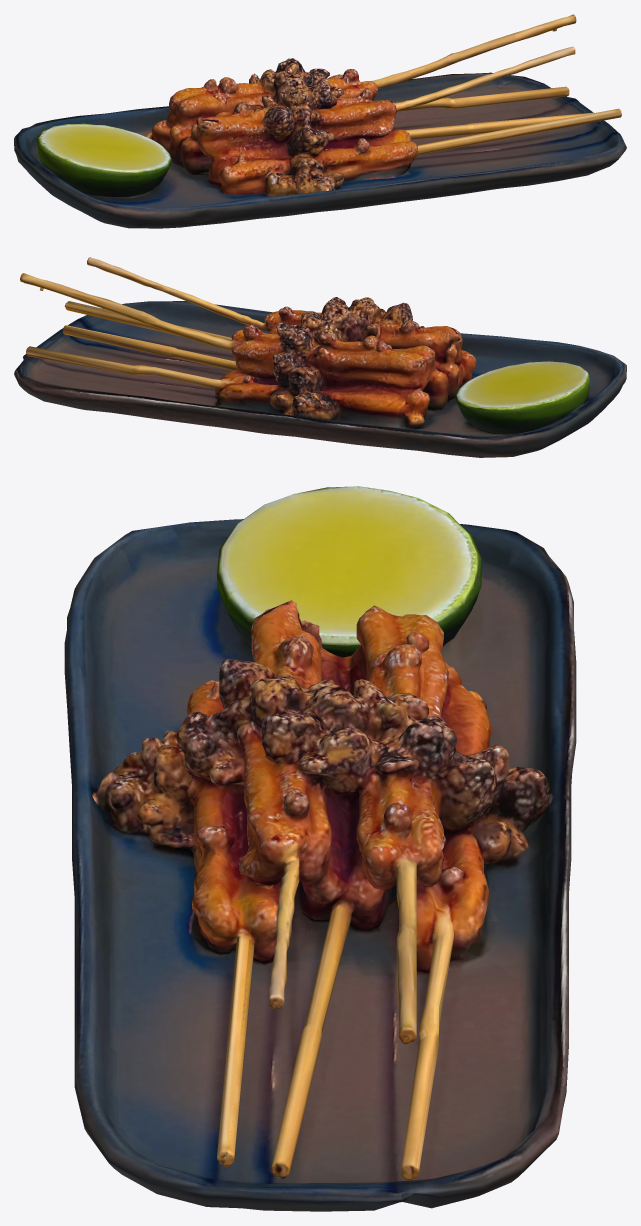
File: chickpea-satay.glb
3 renders of one model, top to bottom at view 1: azimuth 30°, elevation 25°; view 2: azimuth 150°, elevation 25°; view 3: azimuth 270°, elevation 25°, orthographic. The views are drawn at different scales.
Parts seen in each view (by area): view 1: tripo_node_9c38dfc2; view 2: tripo_node_9c38dfc2; view 3: tripo_node_9c38dfc2.
Boxes of the visible parts, x1,y1,x2,y2 form: tripo_node_9c38dfc2: (14,14,626,228); tripo_node_9c38dfc2: (14,257,626,457); tripo_node_9c38dfc2: (64,486,576,1211).
Bounding box in the file's own units: 0.3 × 0.0652 × 0.1203.
Materials: 1 (1 with a texture image).
